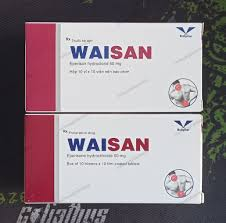Waisan: (65, 135, 154, 153), (67, 44, 154, 61)
